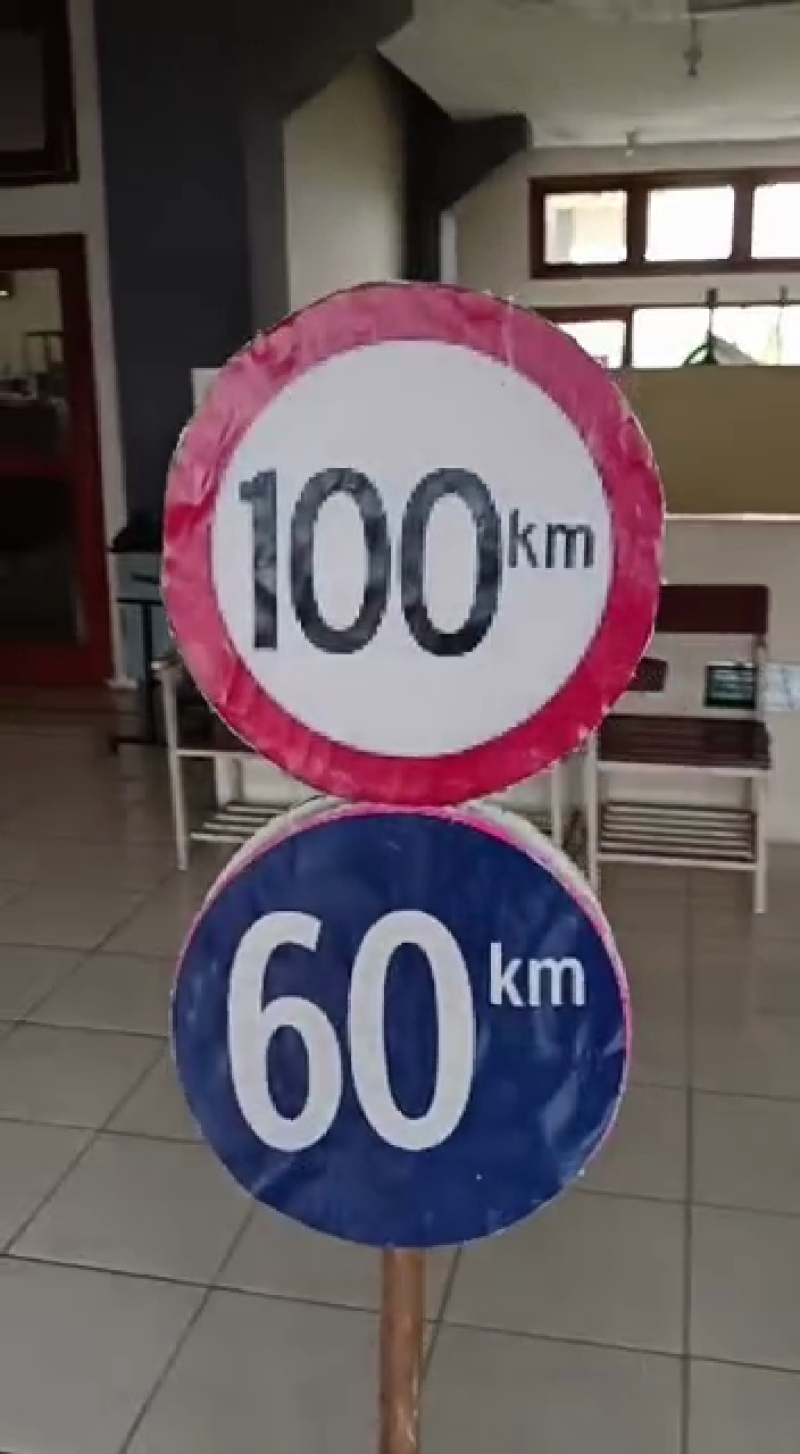batas maksimal 100kmperjam minimal 60kmperjam: (144, 263, 672, 1254)
